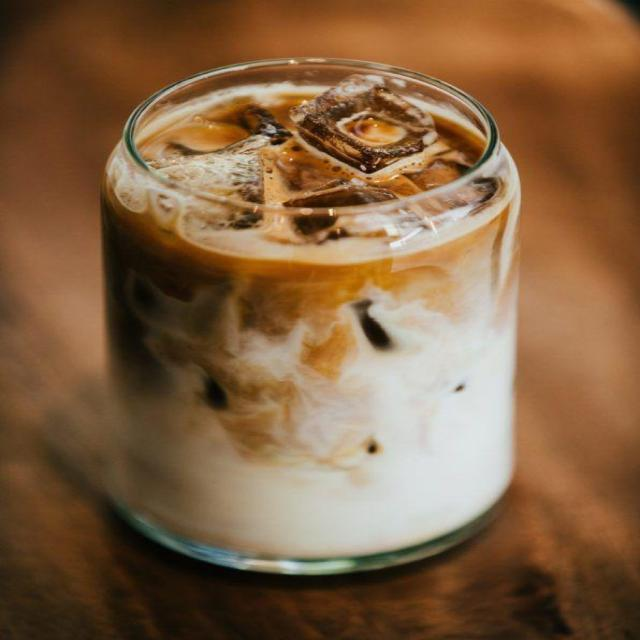glass-normal: (96, 56, 526, 578)
